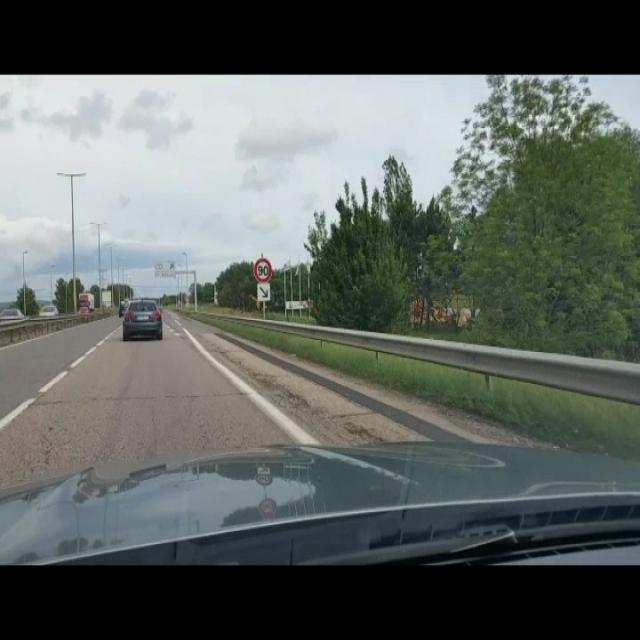direction: (154, 260, 178, 279)
side_right: (258, 282, 270, 302)
speed_90: (252, 254, 273, 283)
